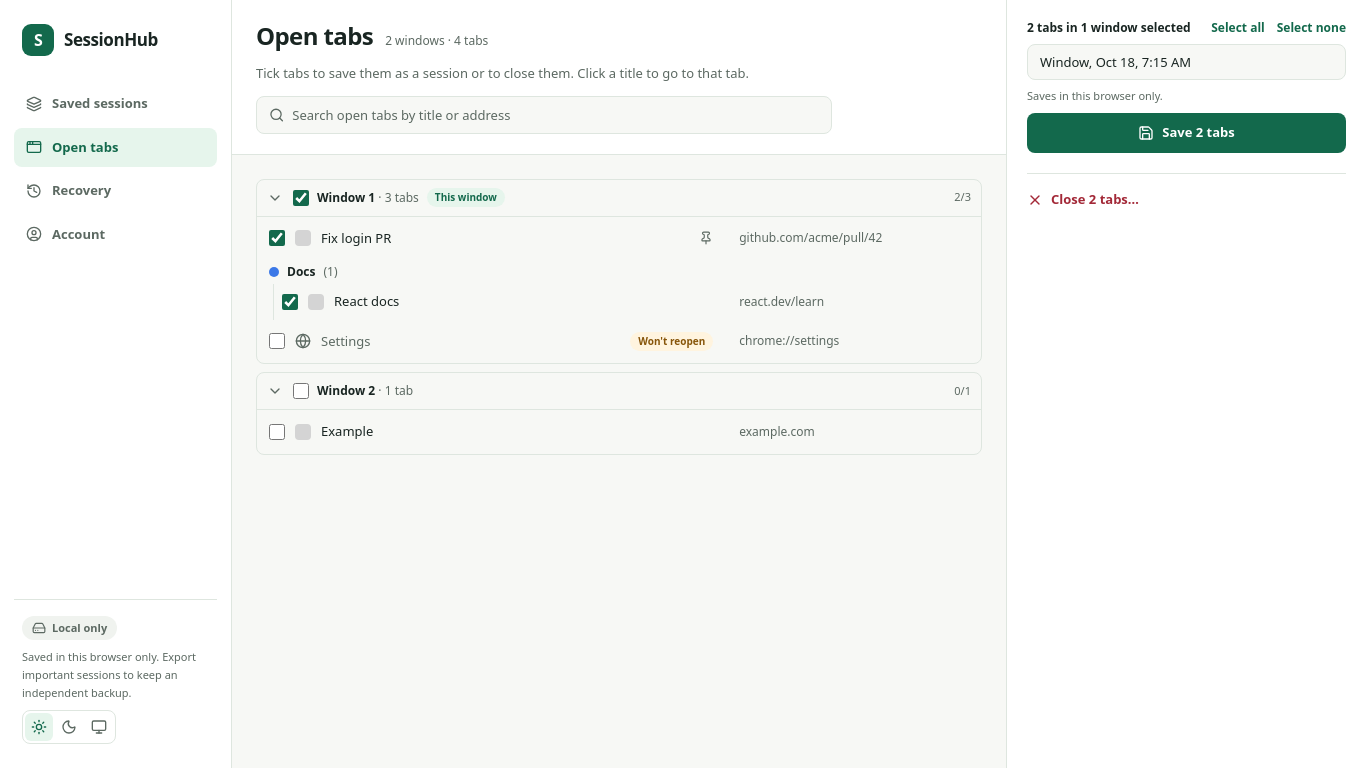
save picker › ticks a whole window from its header, a browser page only by hand, and a range with Shift-click
The image size is (1366, 768).
Step 1. Click the checkbox labelled "Window 1 · 3 tabs This window" → [301, 198], box [293,190,309,206]
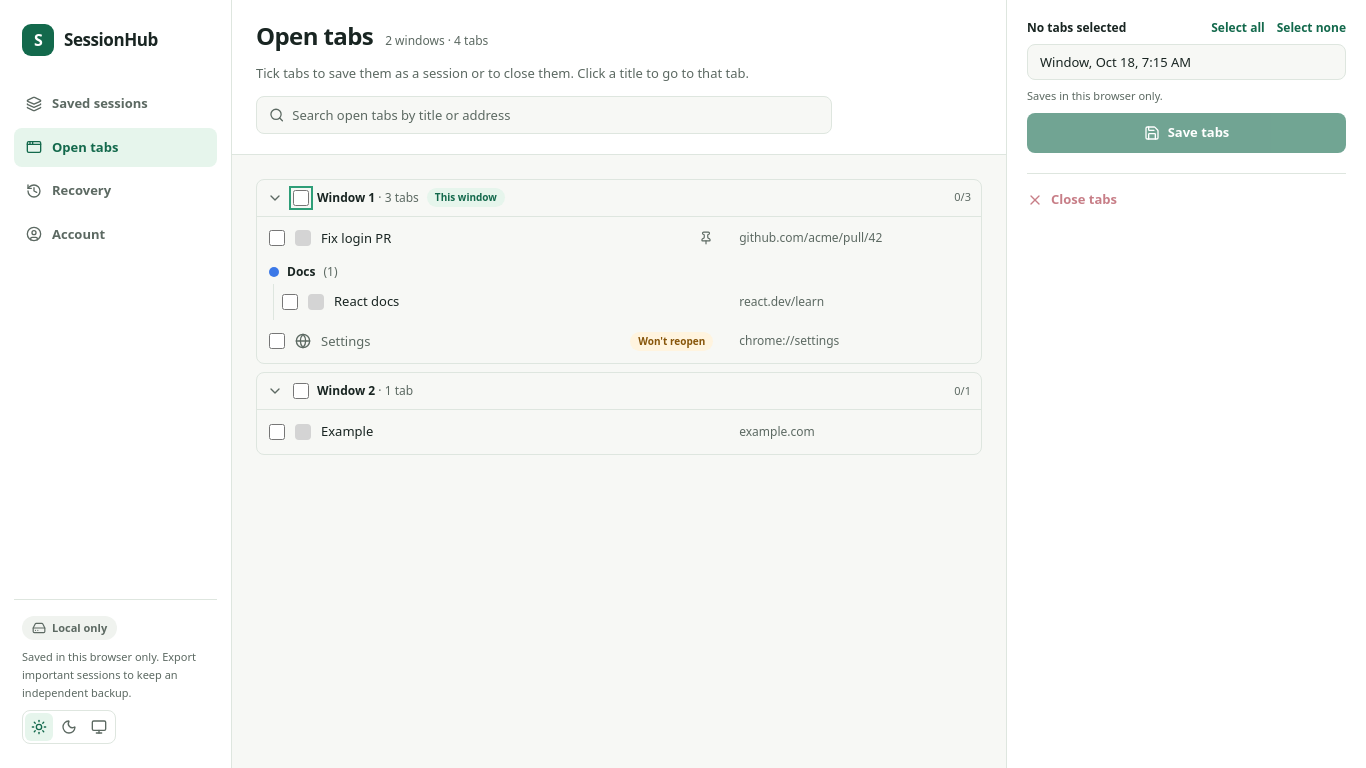
Result: the text "No tabs selected" is shown at [1027,20,1126,36]
Result: the button "Save tabs" is disabled at [1027,112,1346,152]
Step 2. Click the checkbox named "Fix login PR" in the row of "github.com/acme/pull/42" → [277, 238], box [269,230,285,246]
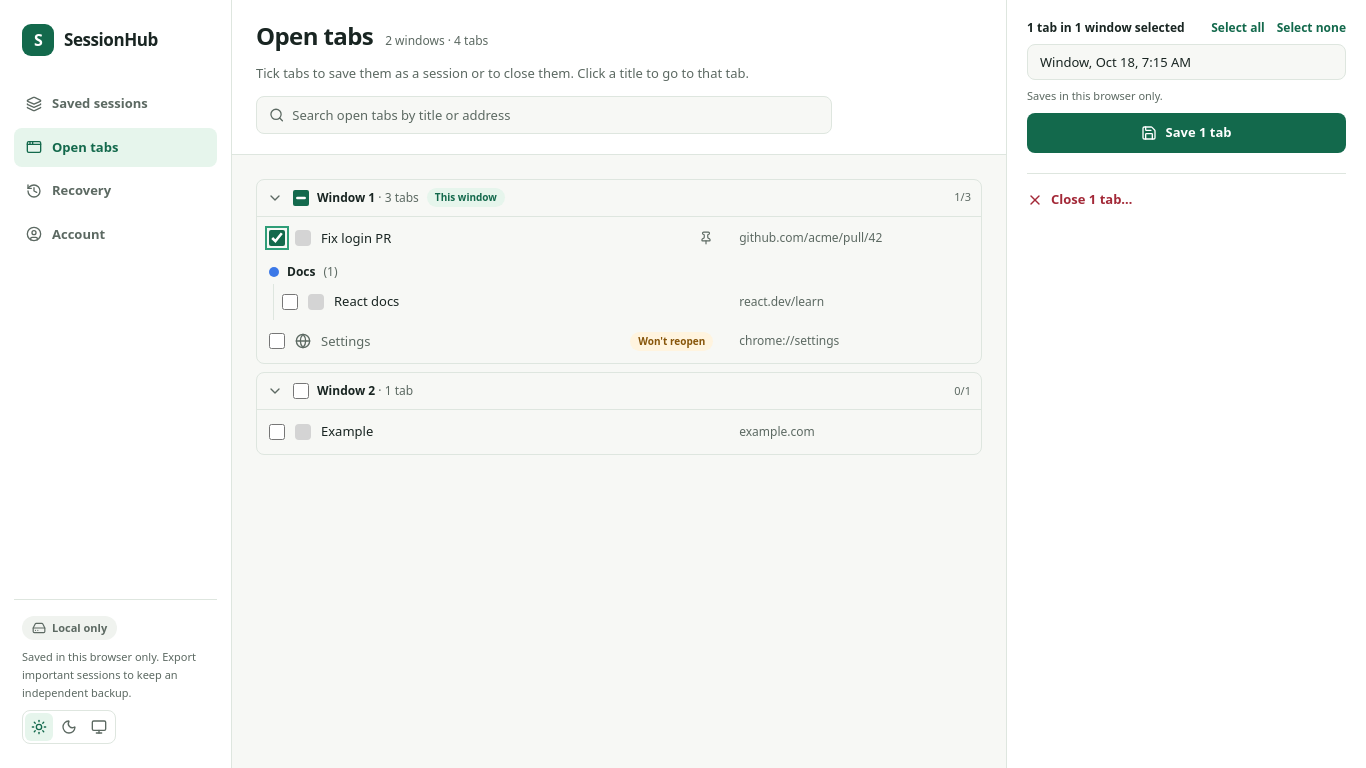
Step 3. Type keys "{Shift>}"
Step 4. Click the checkbox named "Settings" → [277, 341], box [269,333,285,349]
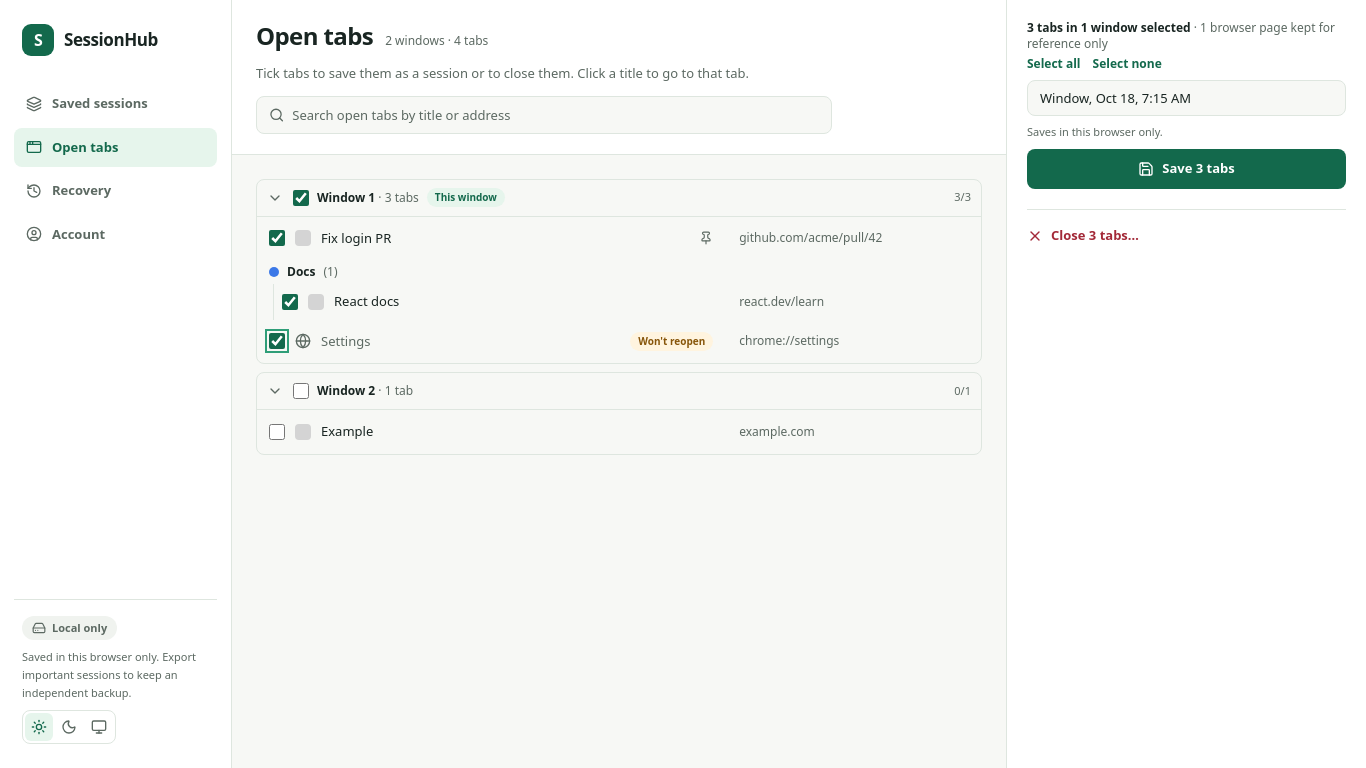
Step 5. Type keys "{/Shift}"
Result: the text "· 1 browser page kept for reference only" is shown at [1027,19,1335,52]
Step 6. Click the button "Select none" → [1127, 64], box [1092,56,1162,72]
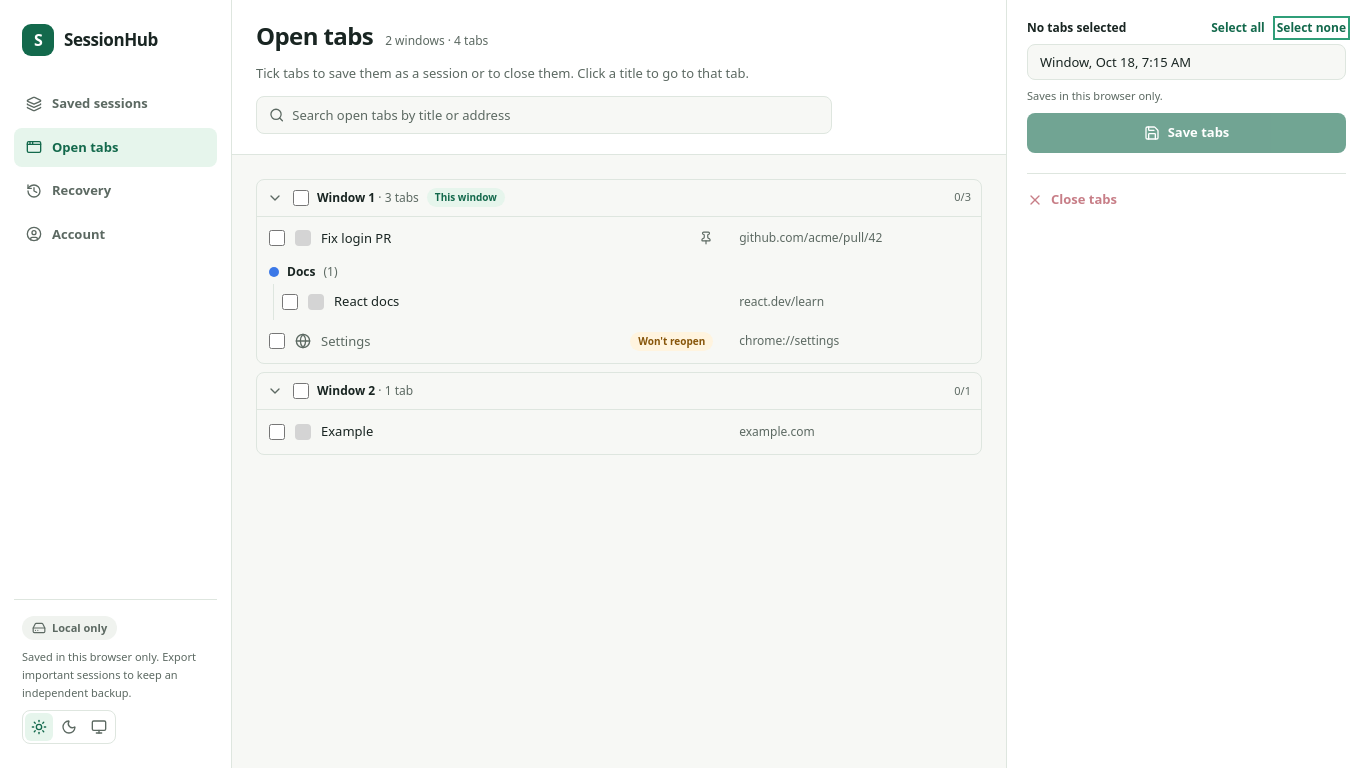
Step 7. Click the button "Select all" → [1238, 28], box [1211,20,1265,36]
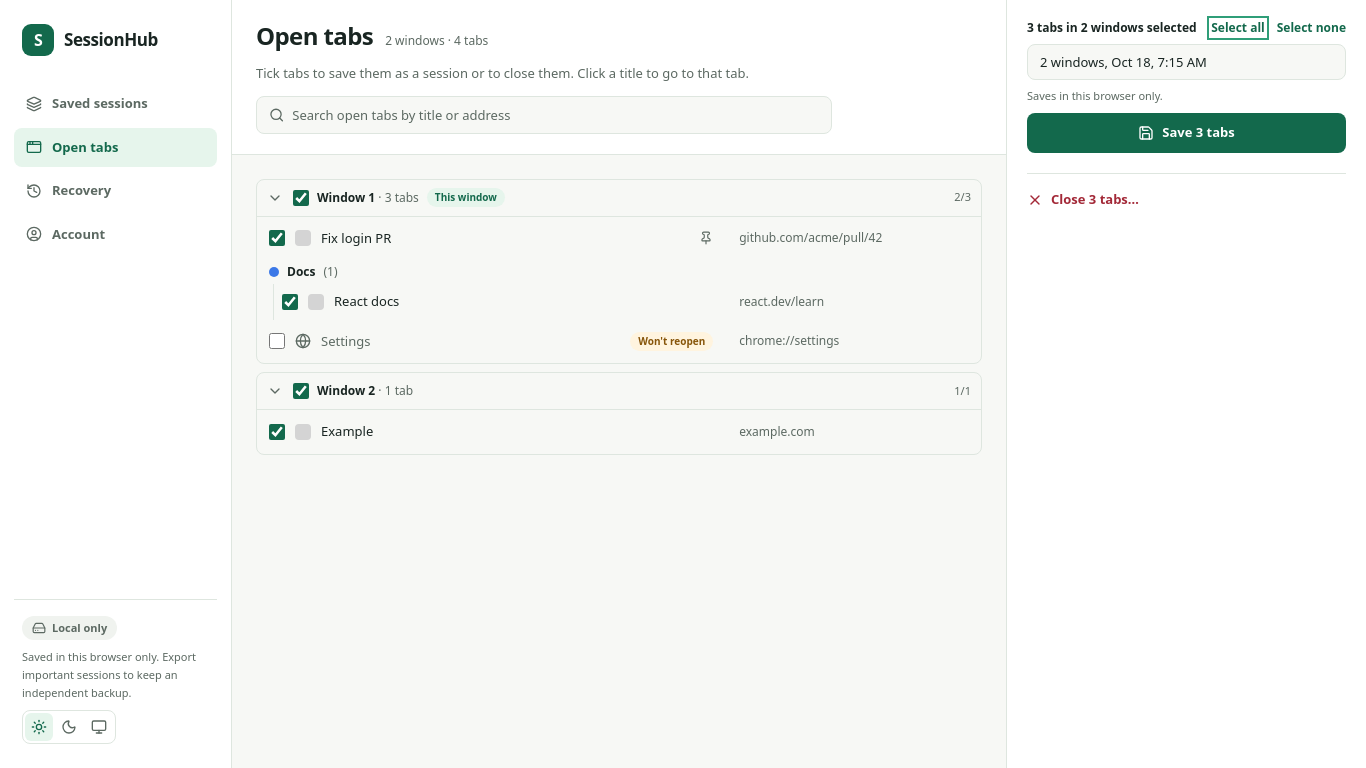
Result: the checkbox named "Settings" is not checked at [269,333,285,349]
Result: the text "3 tabs in 2 windows selected" is shown at [1027,20,1197,36]
